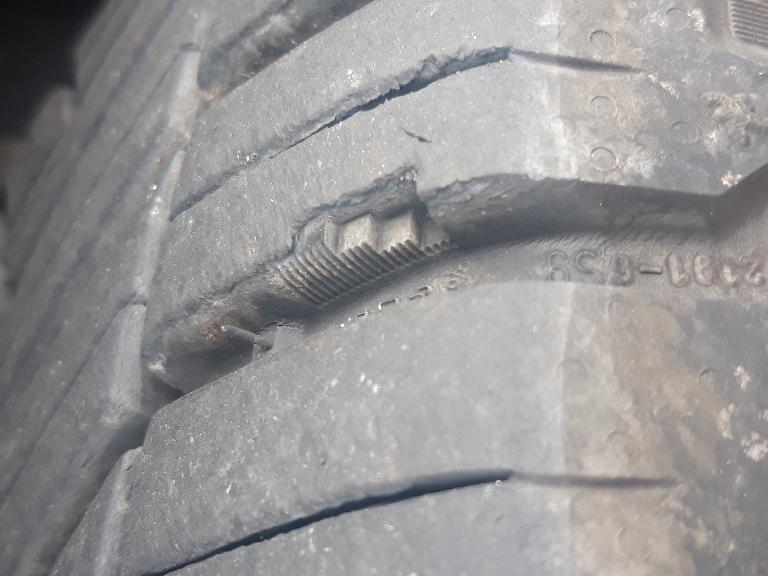temoin:80: (253, 153, 468, 318)
